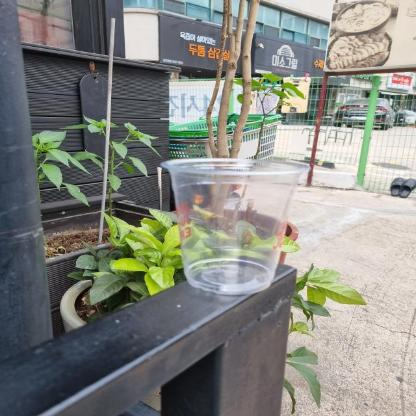Plastic Cup: (160, 156, 306, 296)
